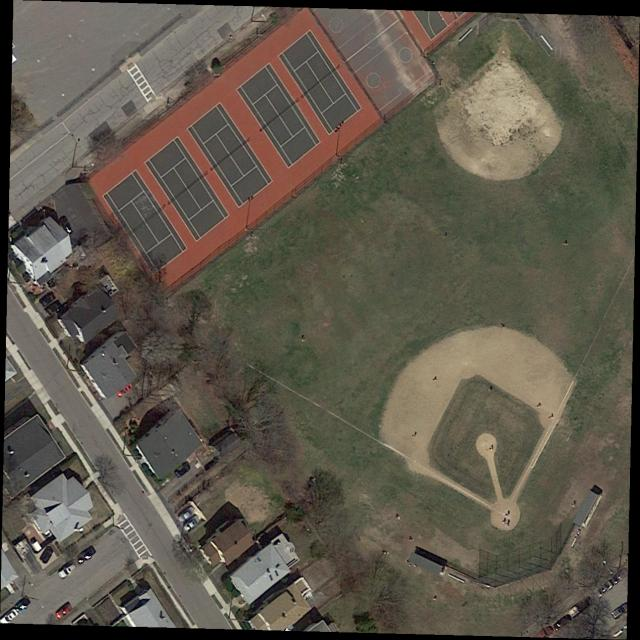small-vehicle: (76, 545, 98, 565), (57, 561, 78, 581), (53, 600, 73, 621), (610, 566, 630, 586), (177, 504, 196, 524), (182, 514, 201, 534), (595, 579, 614, 599), (552, 613, 572, 632), (114, 382, 135, 399), (38, 544, 55, 565), (175, 460, 192, 480), (58, 215, 74, 236), (575, 596, 594, 613), (14, 596, 31, 613)
